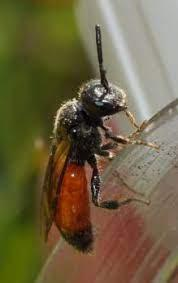Allodapula: (31, 21, 161, 260)
